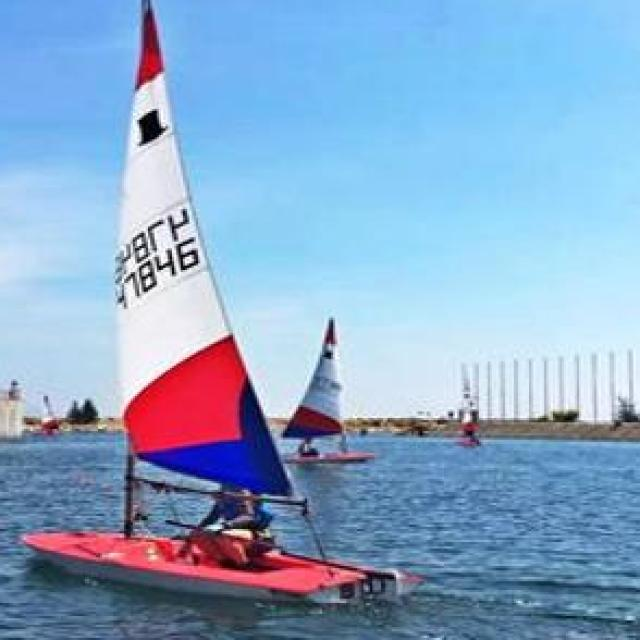sailboat: (20, 0, 407, 614), (277, 298, 379, 468)
